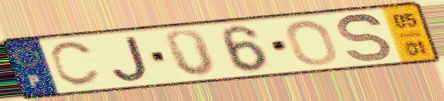0: (164, 28, 218, 79)
6: (219, 23, 273, 75)
C: (47, 39, 103, 89)
J: (109, 35, 151, 84)
O: (284, 18, 340, 67)
S: (336, 12, 395, 64)
